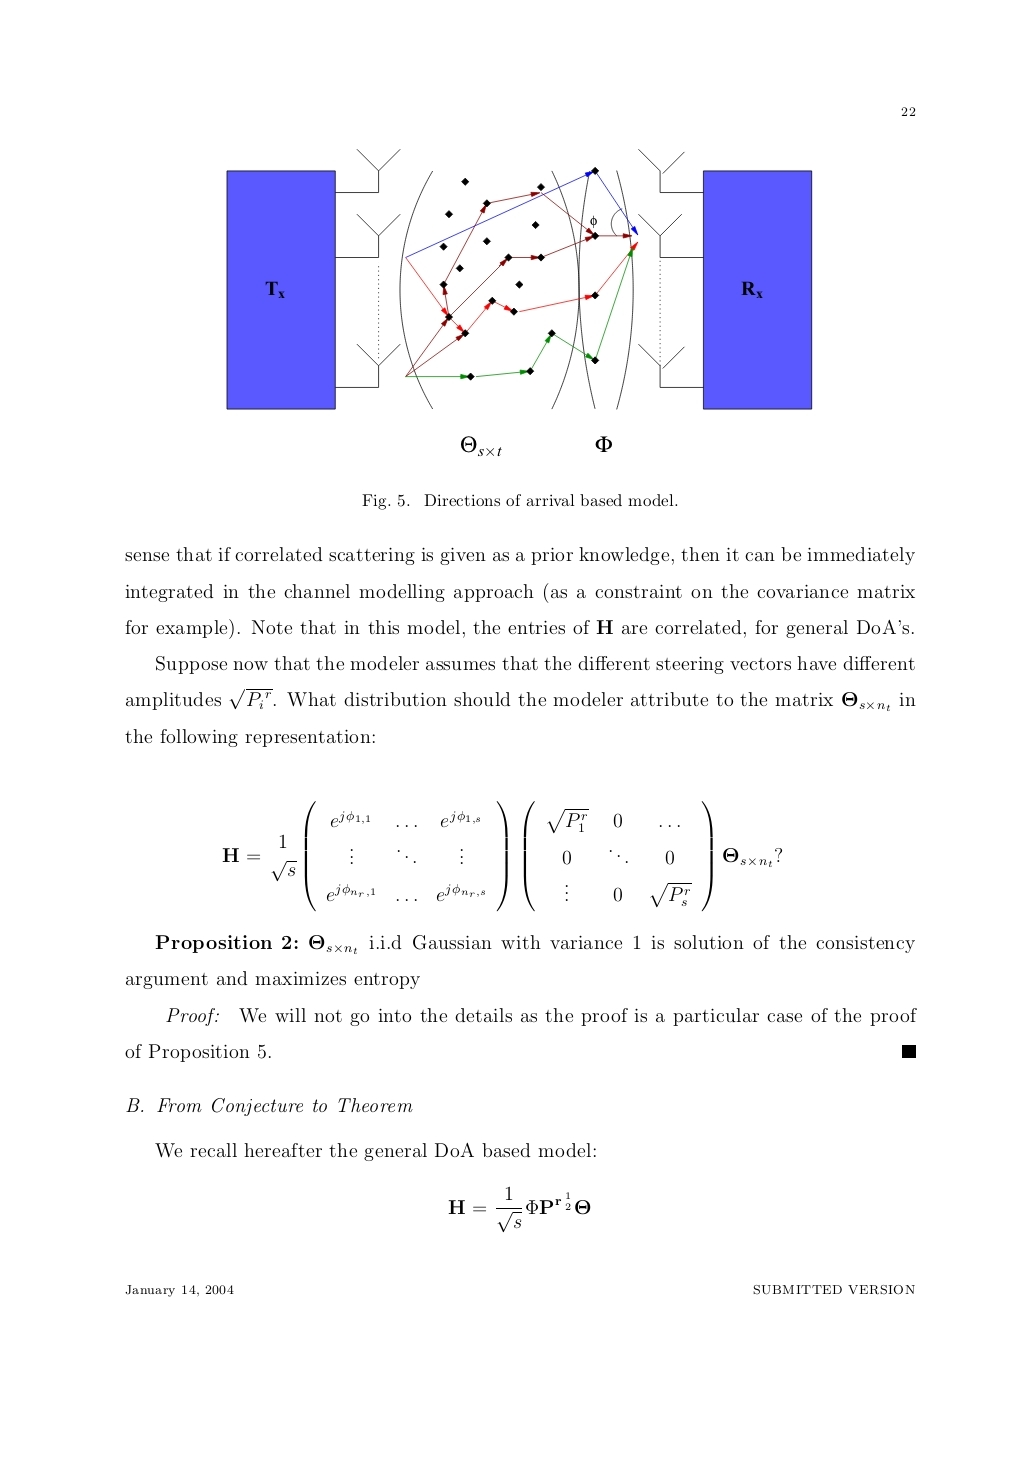figure: (227, 148, 812, 410)
formula: (222, 800, 782, 912), (449, 1185, 590, 1233)
